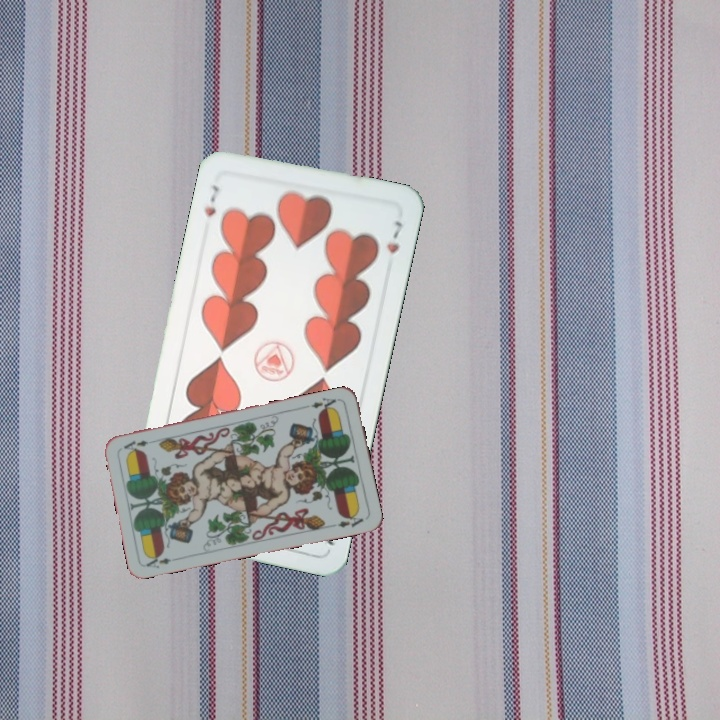EA: (307, 393, 342, 414), (142, 550, 173, 571)
H7: (200, 180, 223, 219)
